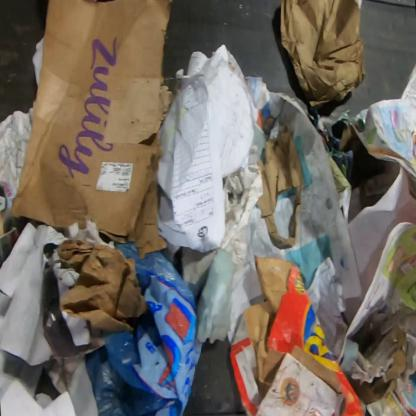cardboard: (8, 0, 175, 261), (228, 251, 366, 416), (57, 238, 147, 336), (345, 303, 415, 415)
soft_plastic: (84, 242, 206, 415)
